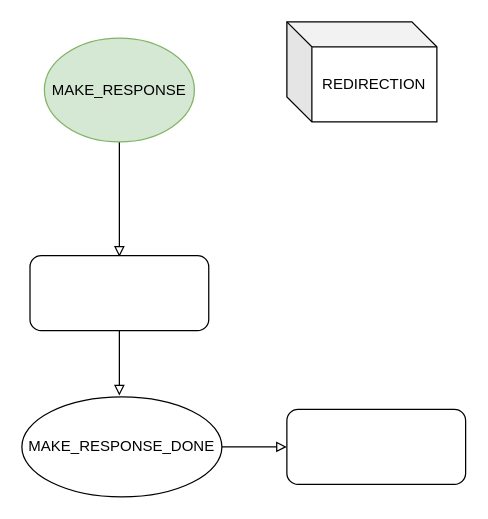
This 488x519 diagram has some shape labels left out. Each missing label, with the centre of its shape:
disconnect true: the point at 376,446
makeHeader() Location header url 필요: the point at 119,292
